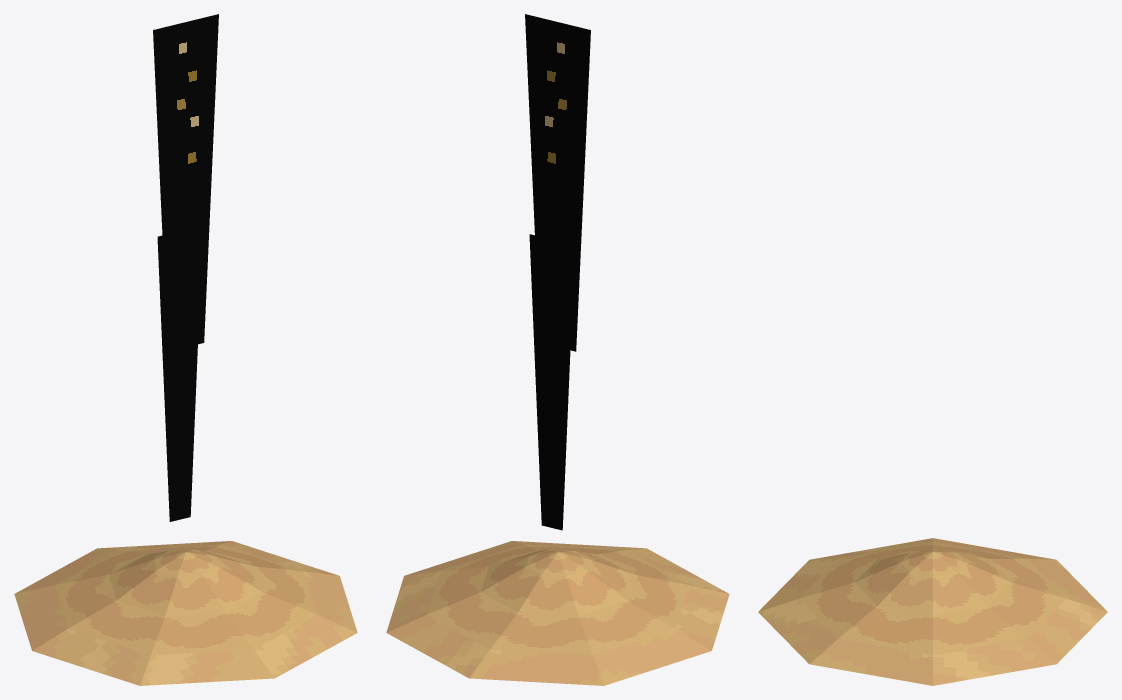
The picture shows the model from 3 angles, left to right: view 1: azimuth 30°, elevation 25°; view 2: azimuth 150°, elevation 25°; view 3: azimuth 270°, elevation 25°; orthographic projection.
Visible parts, largest first — view 1: polygon0, polygon2, polygon1, polygon3; view 2: polygon0, polygon1, polygon2, polygon3; view 3: polygon0, polygon1.
Boxes of the visible parts, x1,y1,x2,y2 form: polygon0: [55, 544, 316, 655]; polygon2: [153, 14, 218, 351]; polygon1: [14, 541, 357, 685]; polygon3: [157, 235, 197, 521]; polygon0: [427, 544, 688, 655]; polygon1: [386, 541, 729, 685]; polygon2: [525, 14, 590, 351]; polygon3: [529, 234, 574, 530]; polygon0: [799, 542, 1066, 654]; polygon1: [758, 538, 1107, 685].
Bounding box in the file's own units: 3.39 × 6.22 × 3.39.
4 materials, 4 textured.
